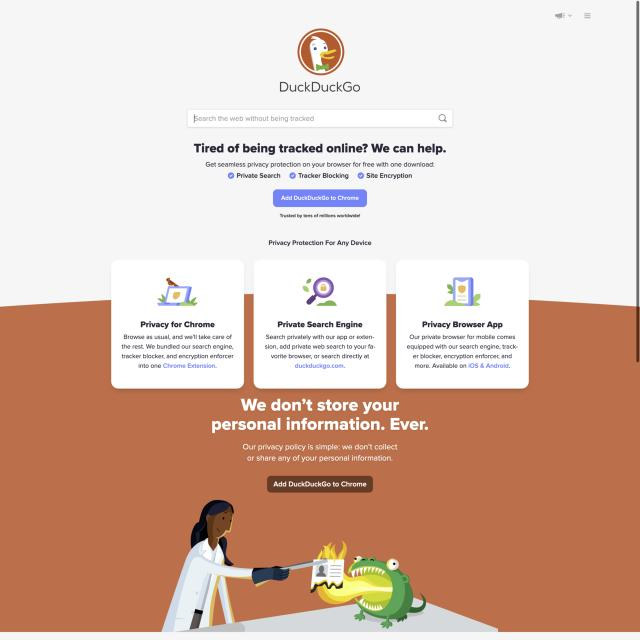input: (186, 107, 454, 129)
logo: (273, 25, 367, 96)
navigation: (582, 10, 594, 21)
